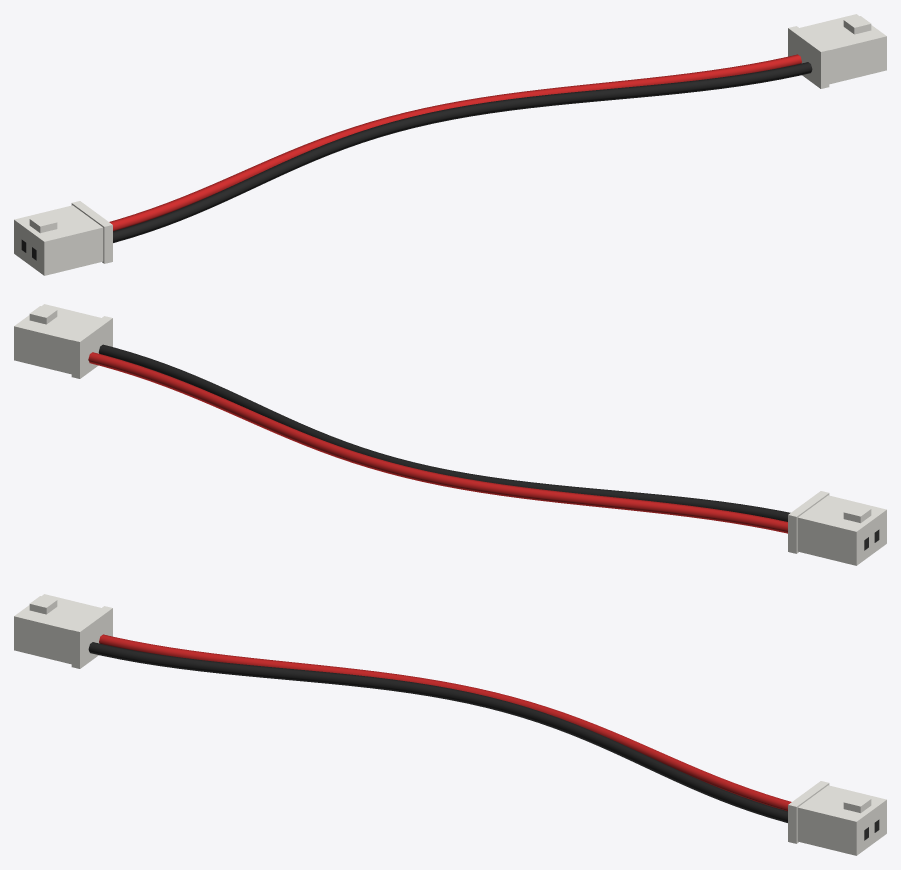
File: jst2.glb
3 views of the same model, one above another, from view 1: azimuth 30°, elevation 25°; view 2: azimuth 150°, elevation 25°; view 3: azimuth 330°, elevation 25° (orthographic).
Visible parts, largest first — view 1: jst2, jst2_plug_a, jst2_plug_b; view 2: jst2, jst2_plug_a, jst2_plug_b; view 3: jst2, jst2_plug_b, jst2_plug_a.
Part boxes in pixels (box(x1,y1,x2,y2)): jst2: box(109, 54, 812, 242); jst2_plug_a: box(14, 201, 112, 275); jst2_plug_b: box(788, 14, 886, 88); jst2: box(88, 344, 790, 533); jst2_plug_a: box(788, 491, 886, 565); jst2_plug_b: box(14, 304, 112, 378); jst2: box(88, 634, 791, 822); jst2_plug_b: box(788, 781, 886, 855); jst2_plug_a: box(14, 594, 112, 668).
Bounding box in the file's own units: 0.1191 × 0.0057 × 0.0155.
